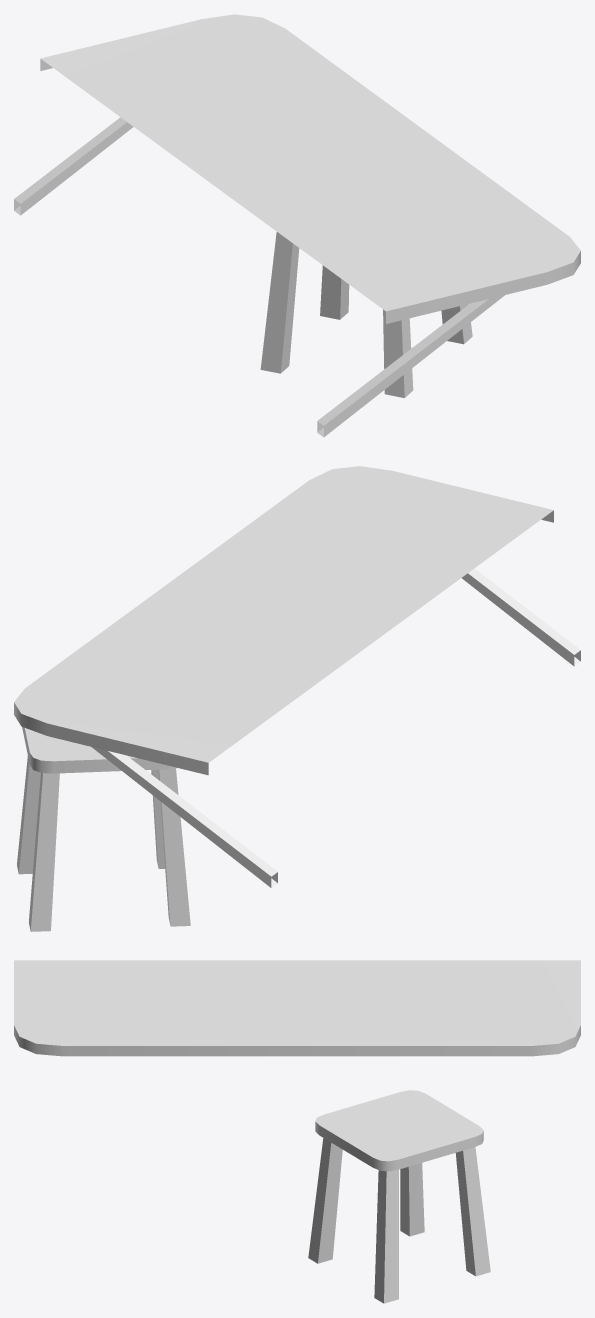
Rendered from street_restaurant_tablework.FBX.
3 views of the same model, one above another, from view 1: azimuth 30°, elevation 25°; view 2: azimuth 150°, elevation 25°; view 3: azimuth 270°, elevation 25° (orthographic). The views are drawn at different scales.
Parts seen in each view (by area): view 1: street_restaurant_tablework; view 2: street_restaurant_tablework; view 3: street_restaurant_tablework.
Part boxes in pixels (x1,y1,x2,y2): street_restaurant_tablework: (14,14,580,437); street_restaurant_tablework: (14,466,580,931); street_restaurant_tablework: (14,960,580,1303).
Size of the model in its own units: 97.97 by 69.89 by 164.
